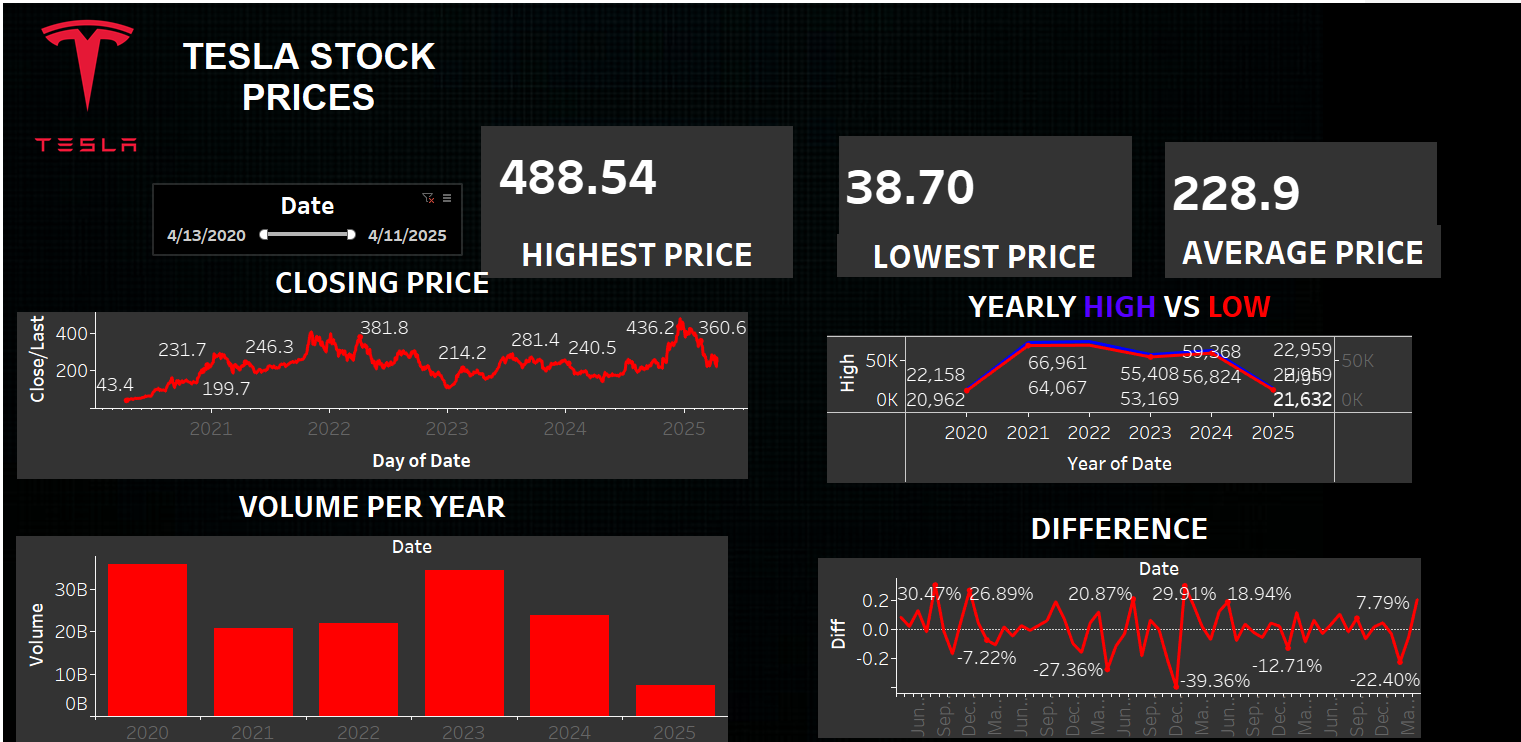

The page's visual inventory and layout, read from the dashboard file:
{"tool":"tableau","page":{"name":"TESLA STOCK PRICE","canvas":[1366,768],"ordinal":0},"visuals":[{"type":"text","box":[558,8,160,96]},{"type":"text","box":[718,8,160,106]},{"type":"text","box":[878,8,160,206]},{"type":"text","box":[1038,8,160,109]},{"type":"text","box":[1198,8,160,116]},{"type":"text","box":[177,9,265,141]},{"type":"image","param":"C:/Users/iamib/Downloads/Tesla Logo.png","box":[9,10,158,158]},{"type":"worksheet","title":"HIGEST PRICE","mark":"Automatic","box":[482,128,312,103]},{"type":"worksheet","title":"LOWEST PRICE","mark":"Automatic","box":[840,138,293,100]},{"type":"filter","title":"CLOSING PRICE","param":"[federated.1e28l630dclnry19rvvfv1epjitr].[none:Date:qk]","box":[155,187,307,69]},{"type":"text","box":[482,230,312,50]},{"type":"text","box":[838,236,295,43]},{"type":"worksheet","title":"CLOSING PRICE","mark":"Automatic","rows":["Close/Last"],"cols":["Date"],"box":[18,258,731,223]},{"type":"worksheet","title":"VOLUME","mark":"Bar","rows":["Volume"],"cols":["Date"],"box":[17,482,712,265]}]}

Visuals, with their boxes on the page's 1366x768 design canvas (x1, y1, x2, y2). These are canvas units, not pixel positions in the 1521x742 screenshot, which may show the page scaled, cropped or inside an application window:
text: select_region(558, 8, 718, 104)
text: select_region(718, 8, 878, 114)
text: select_region(878, 8, 1038, 214)
text: select_region(1038, 8, 1198, 117)
text: select_region(1198, 8, 1358, 124)
text: select_region(177, 9, 442, 150)
image: select_region(9, 10, 167, 168)
"HIGEST PRICE" worksheet: select_region(482, 128, 794, 231)
"LOWEST PRICE" worksheet: select_region(840, 138, 1133, 238)
"CLOSING PRICE" filter: select_region(155, 187, 462, 256)
text: select_region(482, 230, 794, 280)
text: select_region(838, 236, 1133, 279)
"CLOSING PRICE" worksheet: select_region(18, 258, 749, 481)
"VOLUME" worksheet (Bar marks): select_region(17, 482, 729, 747)
